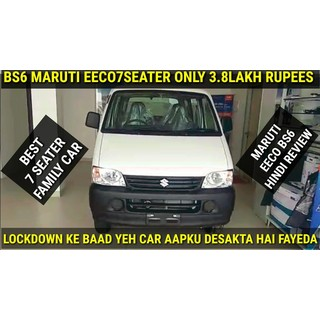car: (89, 88, 236, 234)
